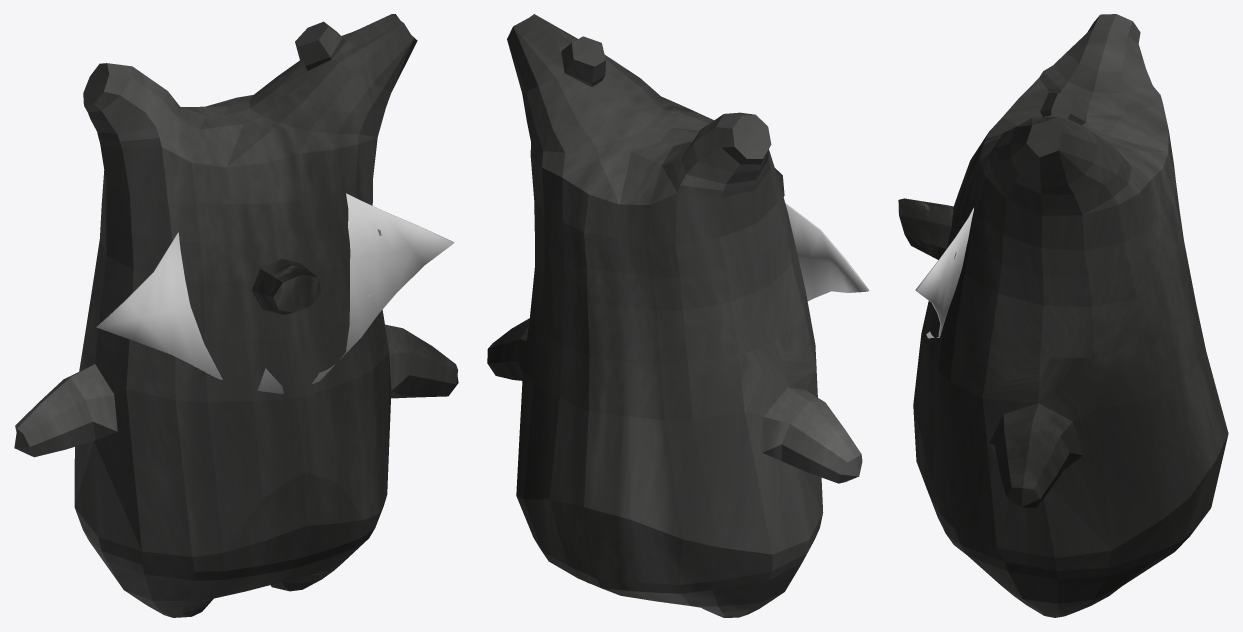
Rendered from frame_0139.obj.
3 renders of one model, left to right at view 1: azimuth 30°, elevation 25°; view 2: azimuth 150°, elevation 25°; view 3: azimuth 270°, elevation 25°, orthographic. The views are drawn at different scales.
Visible parts, largest first — view 1: korok, leaf, nose; view 2: korok, leaf; view 3: korok, nose, leaf.
Part boxes in pixels (left/top/right/bottom): korok: left=14, top=14, right=458, bottom=617; leaf: left=96, top=193, right=454, bottom=393; nose: left=252, top=258, right=321, bottom=314; korok: left=487, top=14, right=862, bottom=617; leaf: left=785, top=203, right=869, bottom=301; korok: left=913, top=14, right=1228, bottom=617; nose: left=898, top=198, right=953, bottom=259; leaf: left=915, top=207, right=973, bottom=338.
Bounding box in the file's own units: 1.7 × 2.2 × 1.22.
